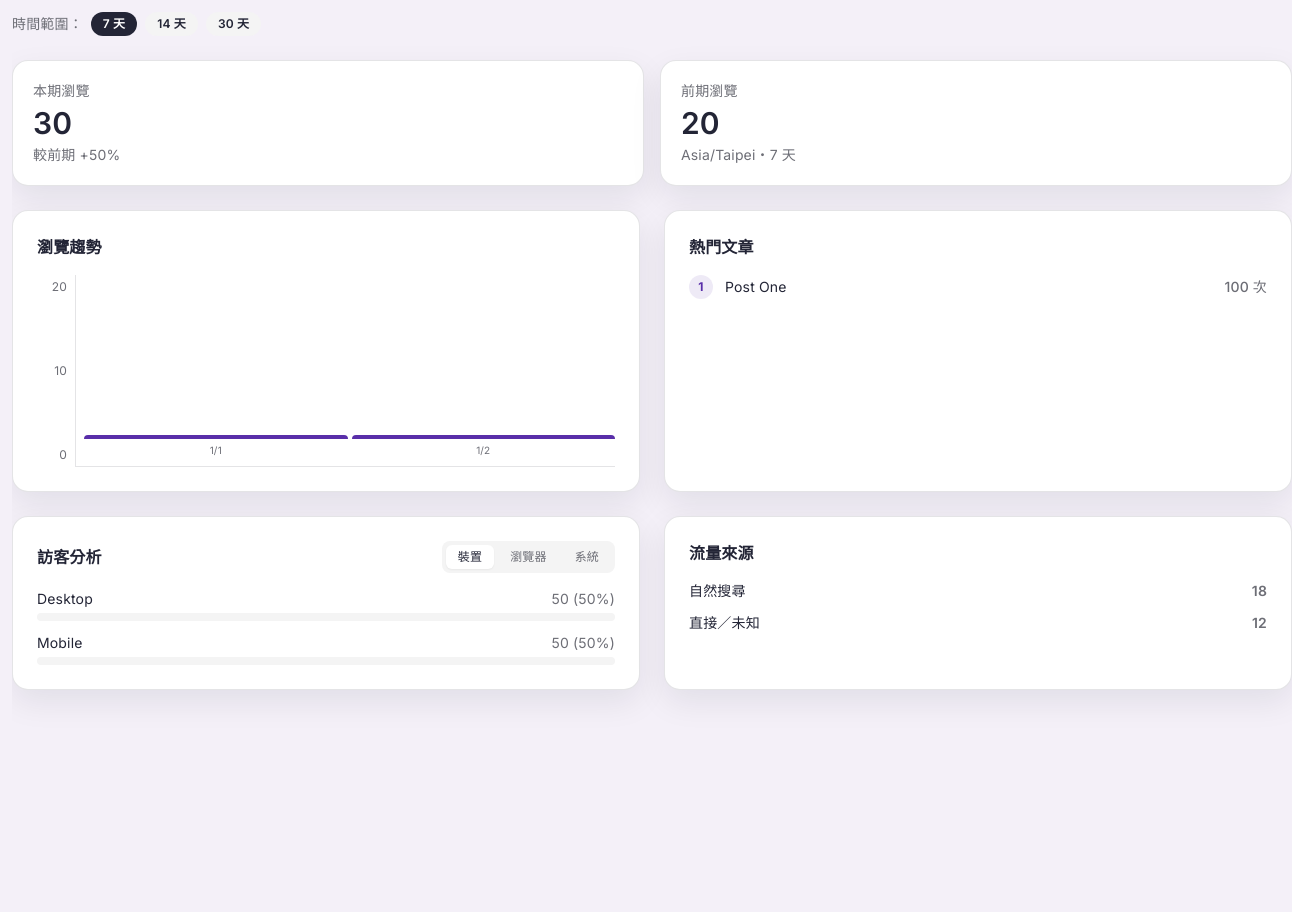
it: DashboardCharts › switches tabs in visitor analysis
Expected: the heading "訪客分析" is shown, [37,545,102,569]
// Switch to Browser
Click the button "瀏覽器".
click(528, 557)  # box [498,545,559,569]
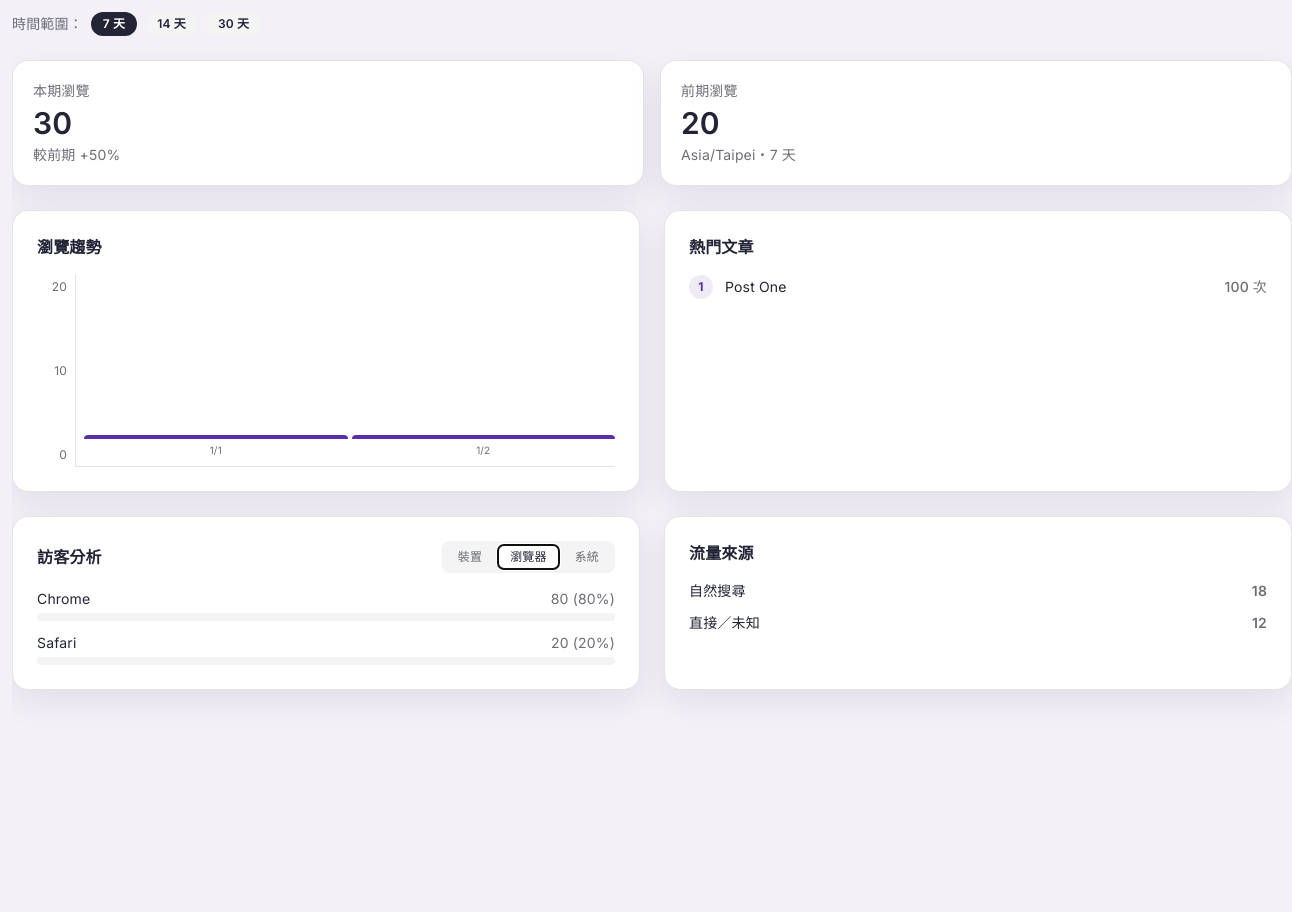
Expected: the text "Chrome" is shown, [37,589,90,609]
Expected: the text "Desktop" is gone
// Switch to OS
Click the button "系統".
click(587, 557)  # box [563,545,611,569]
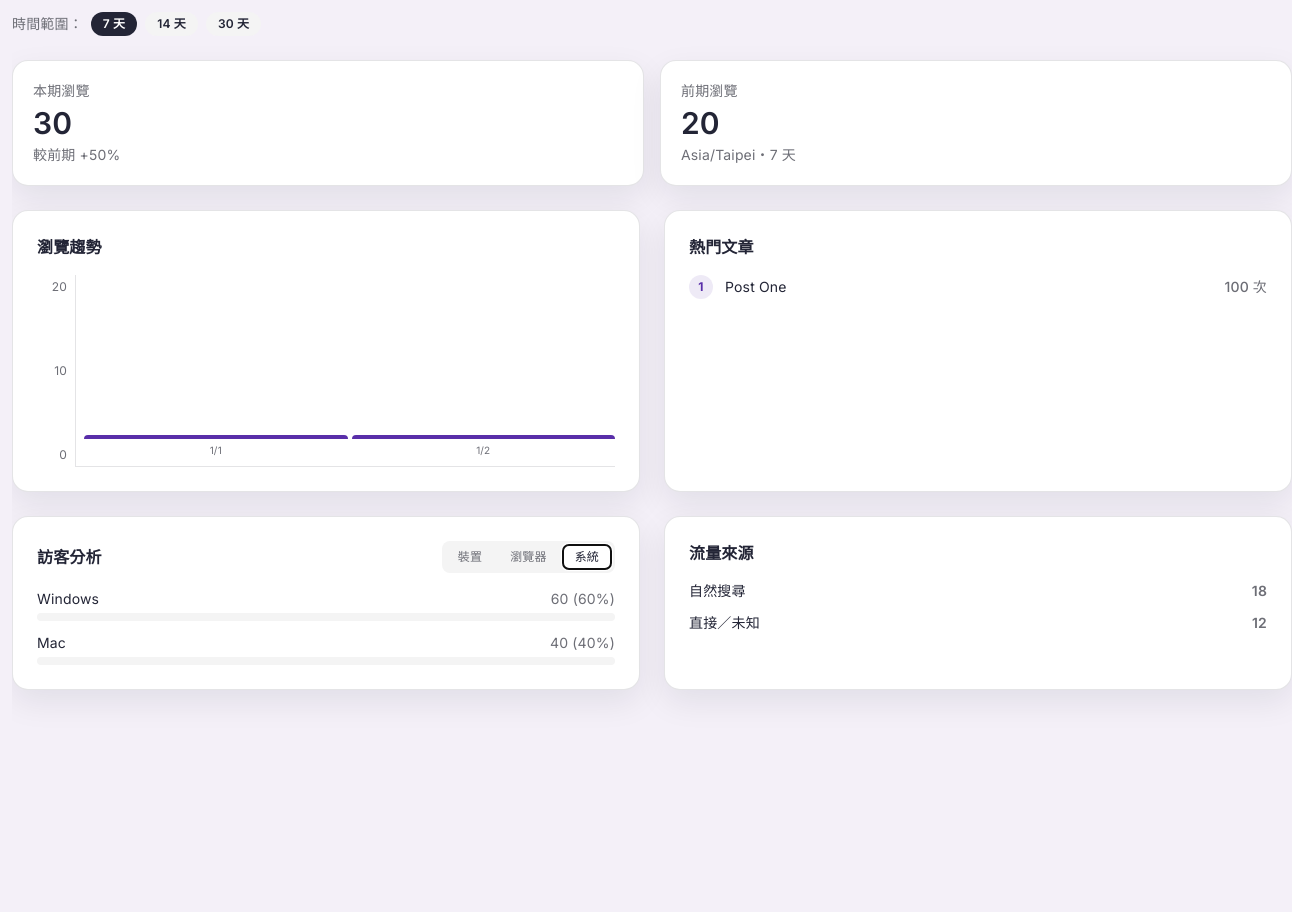
Expected: the text "Windows" is shown, [37,589,99,609]
